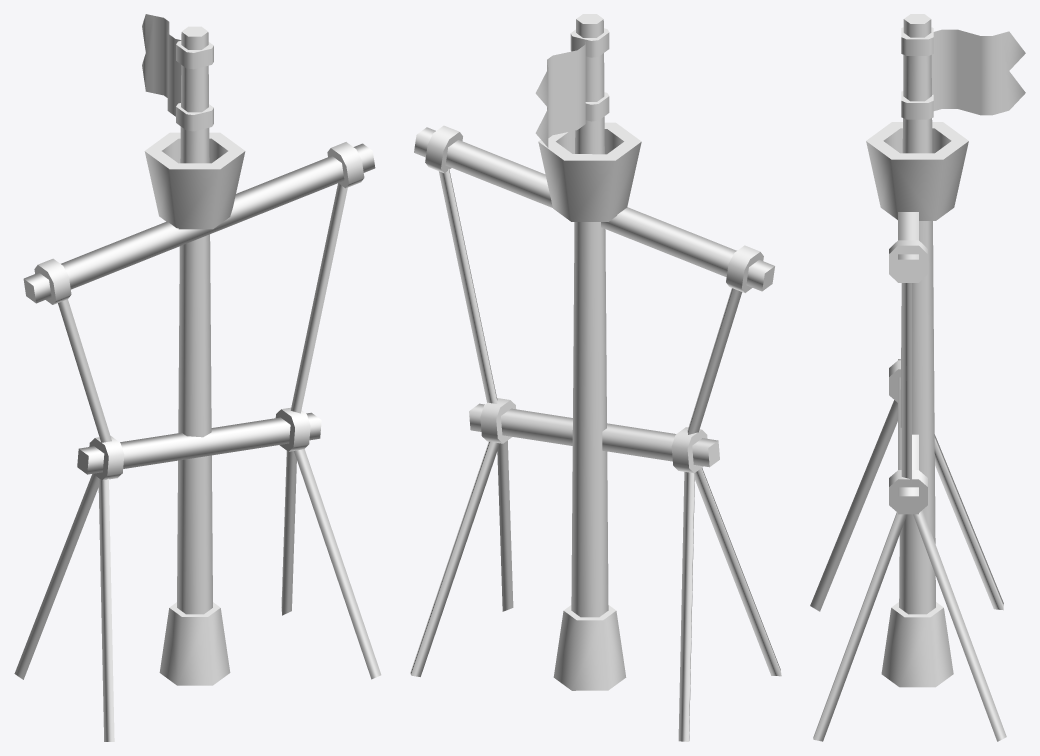
Rendered from mast-ropes.glb.
3 renders of one model, left to right at view 1: azimuth 30°, elevation 25°; view 2: azimuth 150°, elevation 25°; view 3: azimuth 270°, elevation 25°, orthographic. The views are drawn at different scales.
Parts seen in each view (by area): view 1: mast-ropes, sail-a, flag-c; view 2: mast-ropes, sail-a, flag-c; view 3: mast-ropes, flag-c, sail-a.
Part boxes in pixels (box(x1,y1,x2,y2)): mast-ropes: box(14, 26, 381, 741); sail-a: box(23, 142, 375, 480); flag-c: box(142, 14, 213, 131); mast-ropes: box(410, 14, 781, 741); sail-a: box(414, 125, 774, 473); flag-c: box(535, 28, 609, 147); mast-ropes: box(810, 14, 1006, 741); flag-c: box(901, 27, 1025, 119); sail-a: box(889, 212, 927, 514).
Size of the model in its own units: 4.39 by 7.89 by 2.35.
1 material, 1 textured.
